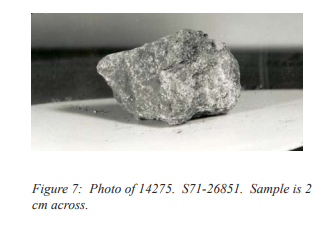Breccia: (91, 17, 272, 130)
